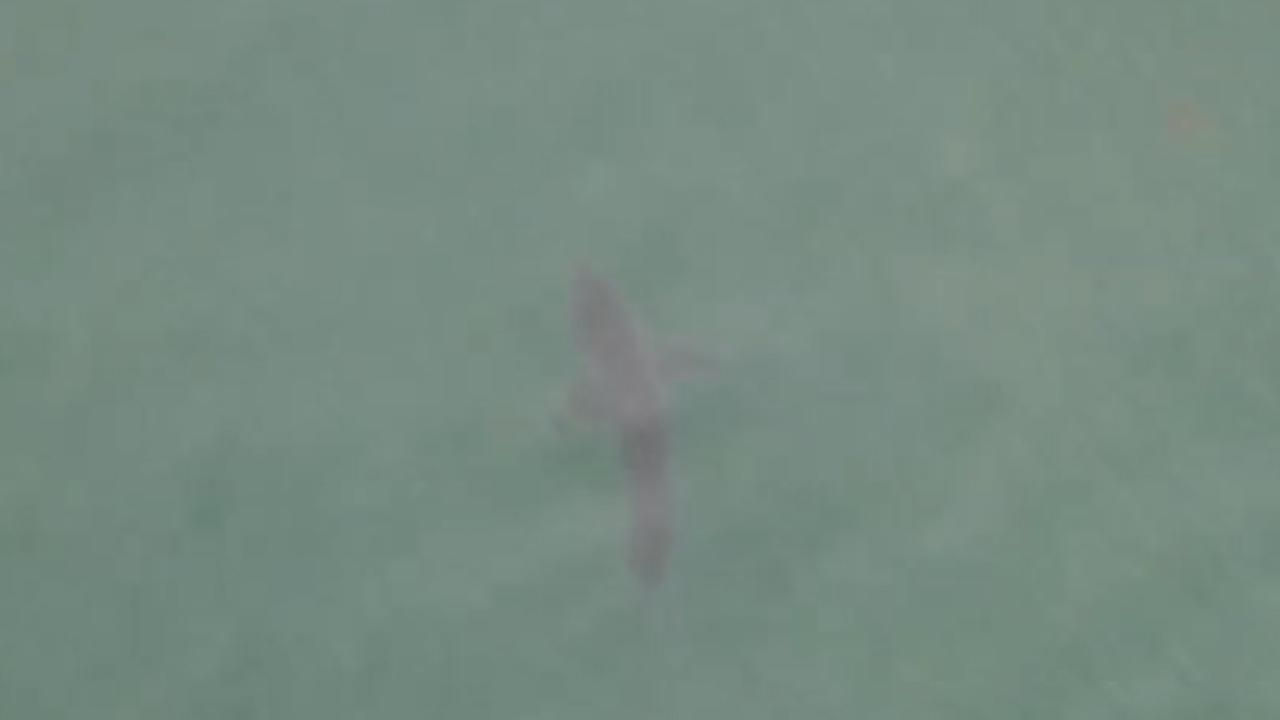shark: (526, 250, 733, 608)
